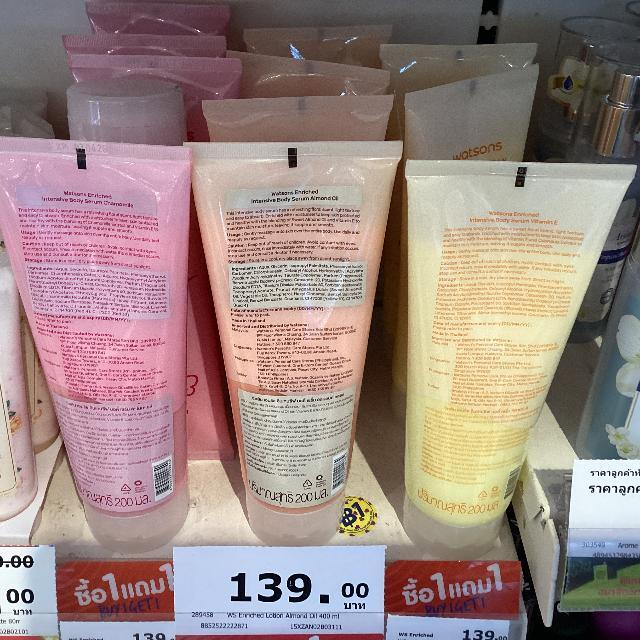Squeeze Tube: (0, 63, 640, 565)
